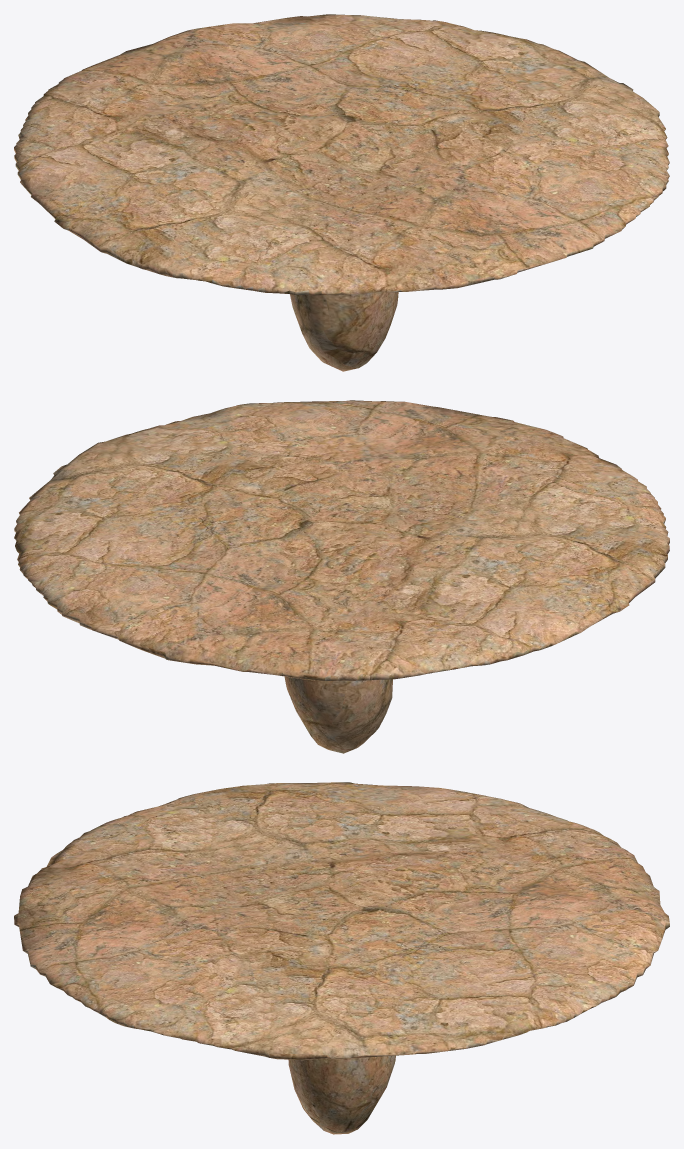
The model's file is coral_table.glb.
3 views of the same model, one above another, from view 1: azimuth 30°, elevation 25°; view 2: azimuth 150°, elevation 25°; view 3: azimuth 270°, elevation 25° (orthographic).
Visible parts, largest first — view 1: coral_table; view 2: coral_table; view 3: coral_table.
Part boxes in pixels (left/top/right/bottom): coral_table: left=14, top=14, right=669, bottom=371; coral_table: left=14, top=400, right=669, bottom=753; coral_table: left=14, top=782, right=669, bottom=1134.
Size of the model in its own units: 5.16 by 2.02 by 5.18.
Materials: 1 (1 with a texture image).
